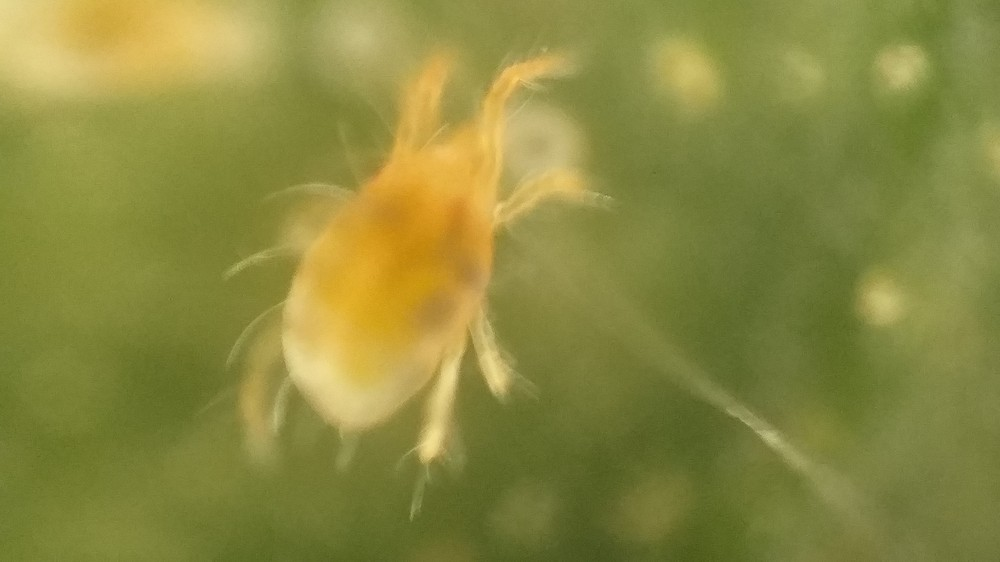Aracnido Rojo: (214, 49, 630, 498)
